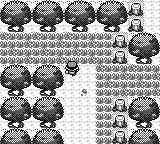captura: (0, 32, 159, 143)
main: (65, 61, 80, 76)
no-caminable: (0, 65, 64, 143), (1, 1, 128, 32), (128, 97, 159, 143), (128, 34, 159, 64), (112, 96, 128, 144), (111, 33, 128, 63), (128, 1, 144, 32)
